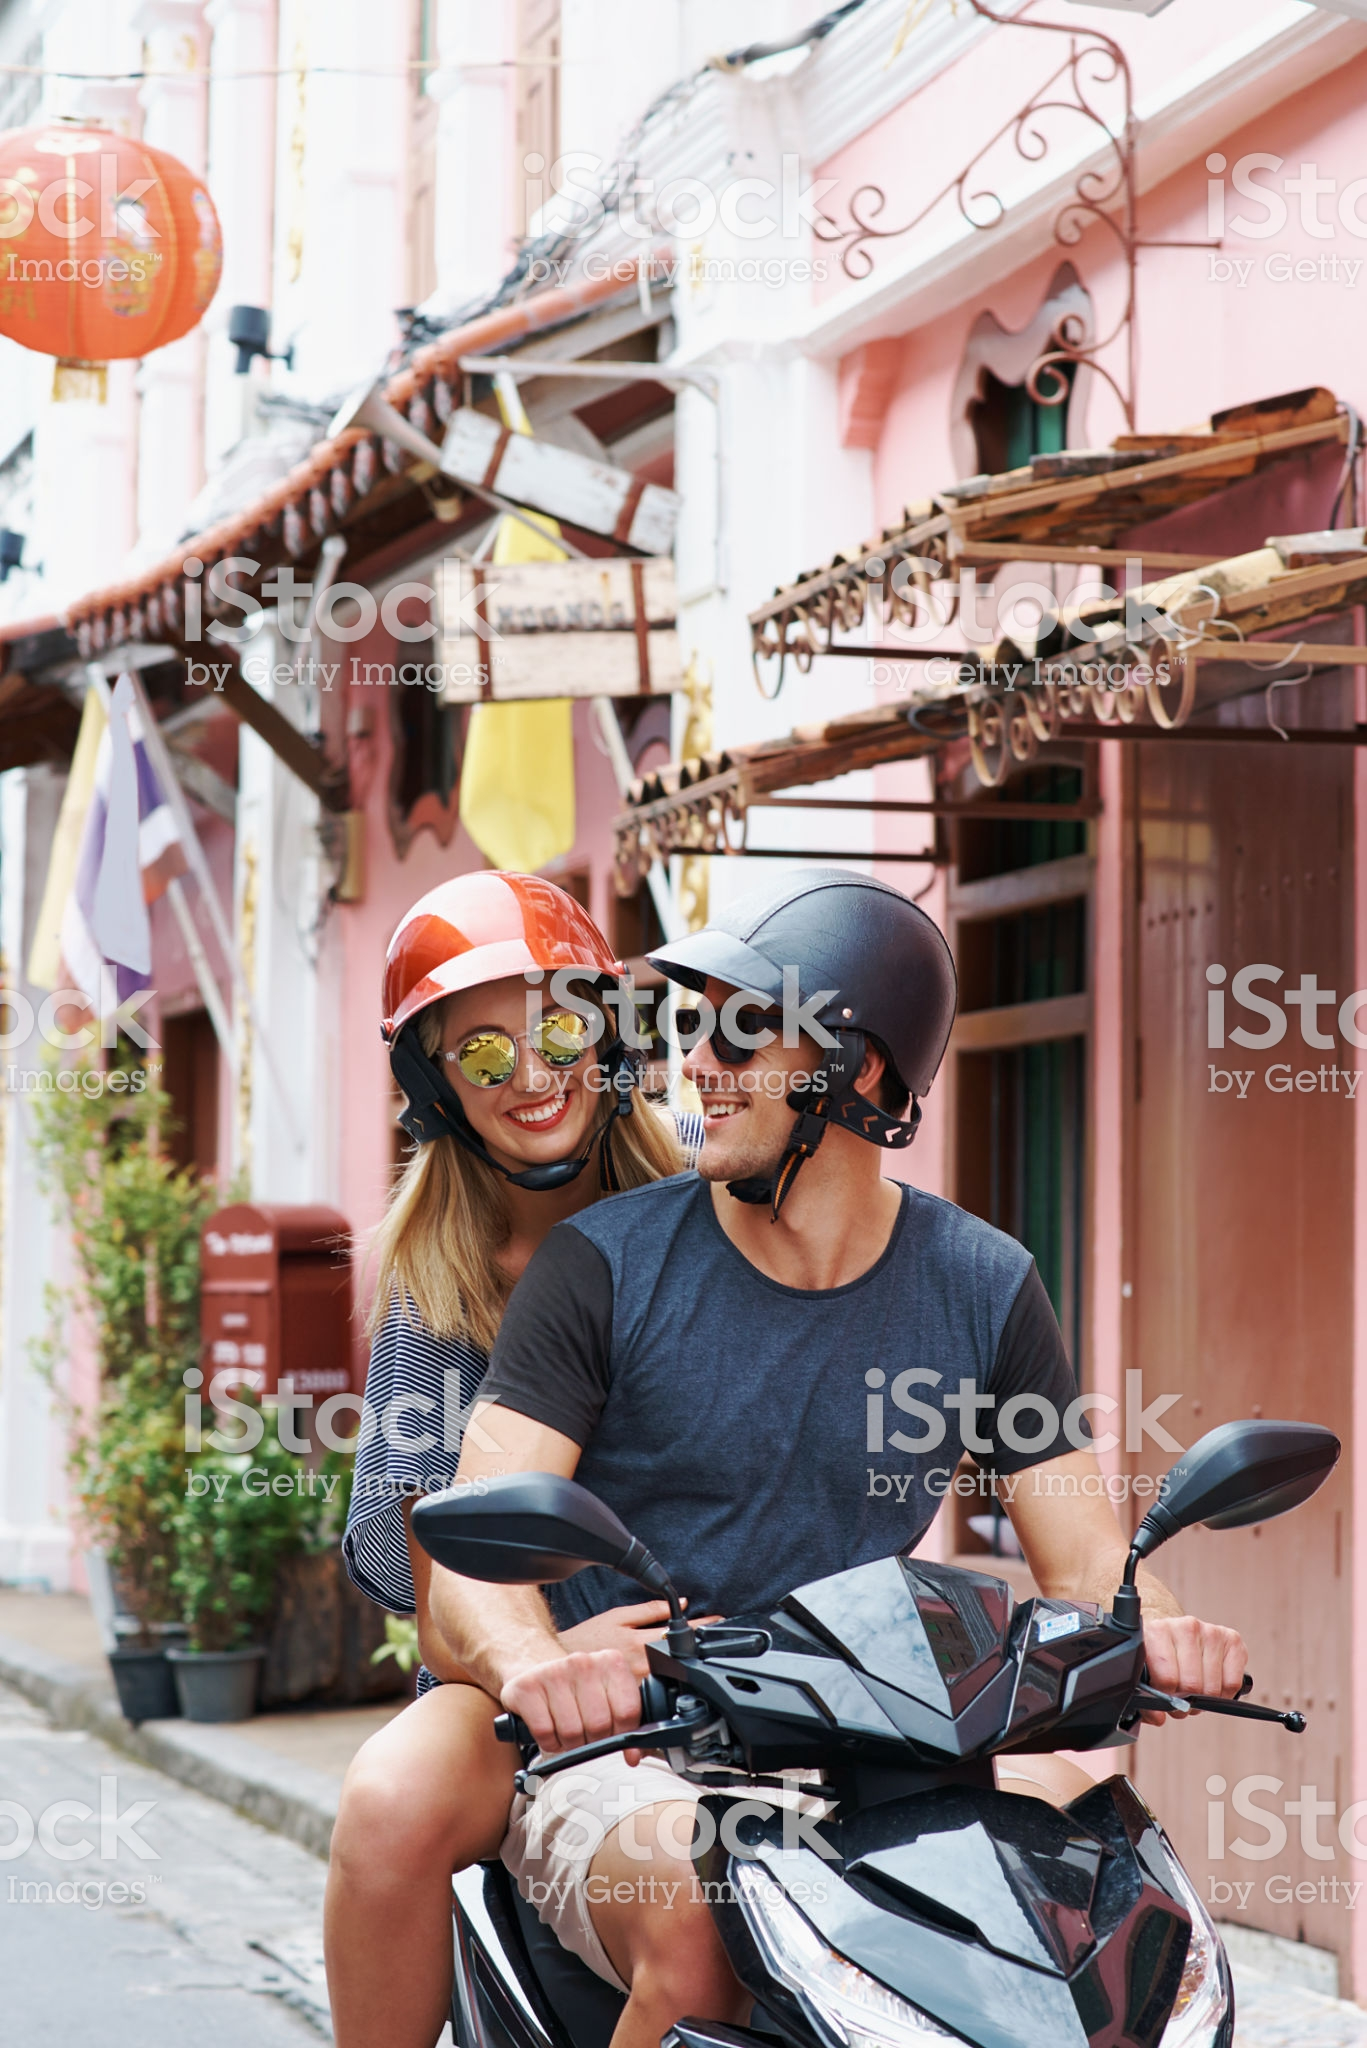helmet: (305, 846, 664, 1010), (696, 869, 967, 1063)
